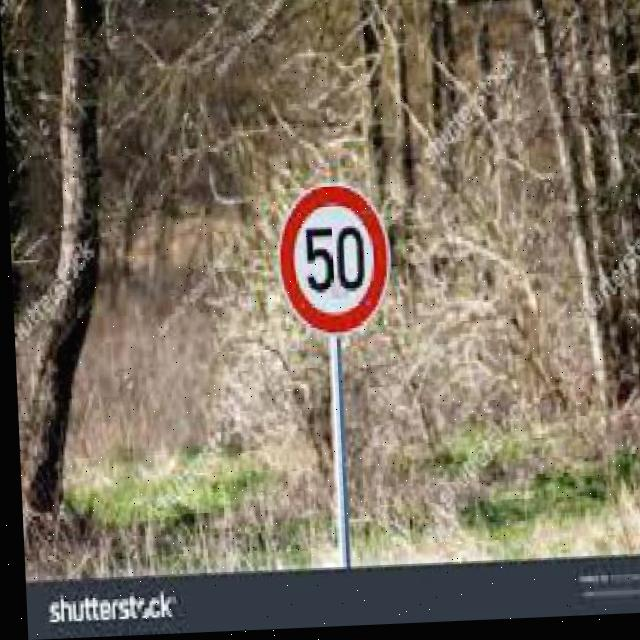Speed limit 50: (269, 180, 393, 343)
